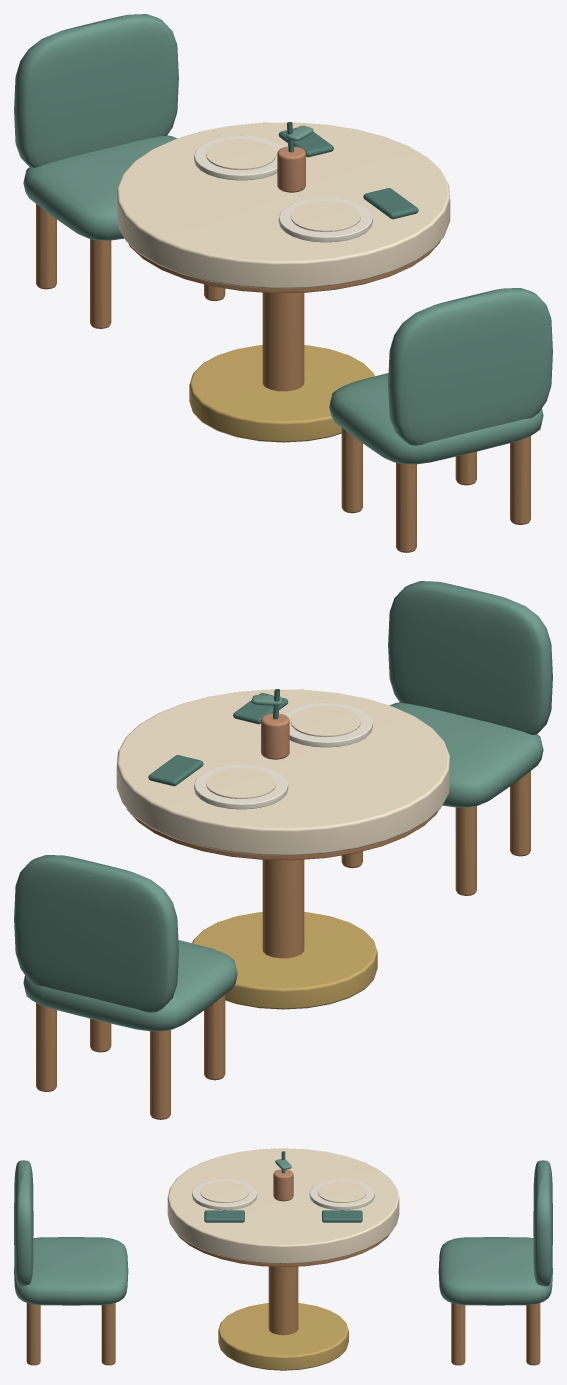
Rendered from dining-set.glb.
The picture shows the model from 3 angles, top to bottom: view 1: azimuth 30°, elevation 25°; view 2: azimuth 150°, elevation 25°; view 3: azimuth 270°, elevation 25°; orthographic projection. The views are drawn at different scales.
Parts seen in each view (by area): view 1: dining-set / Sea glass upholstery, dining-set / Ivory stone, dining-set / Oak, dining-set / Brass, dining-set / Warm linen, dining-set / Sea glass runner, dining-set / Terracotta cushion; view 2: dining-set / Sea glass upholstery, dining-set / Ivory stone, dining-set / Oak, dining-set / Brass, dining-set / Warm linen, dining-set / Sea glass runner, dining-set / Terracotta cushion; view 3: dining-set / Ivory stone, dining-set / Sea glass upholstery, dining-set / Brass, dining-set / Oak, dining-set / Warm linen, dining-set / Sea glass runner, dining-set / Terracotta cushion.
Part boxes in pixels (box(x1,y1,x2,y2)): dining-set / Sea glass upholstery: box(14, 14, 552, 464); dining-set / Ivory stone: box(116, 122, 450, 288); dining-set / Oak: box(36, 204, 530, 552); dining-set / Brass: box(189, 345, 374, 442); dining-set / Warm linen: box(194, 135, 372, 242); dining-set / Sea glass runner: box(278, 122, 418, 219); dining-set / Terracotta cushion: box(277, 146, 305, 192); dining-set / Sea glass upholstery: box(14, 581, 552, 1031); dining-set / Ivory stone: box(116, 689, 450, 855); dining-set / Oak: box(36, 771, 530, 1119); dining-set / Brass: box(192, 912, 377, 1009); dining-set / Warm linen: box(194, 702, 372, 809); dining-set / Sea glass runner: box(148, 689, 288, 786); dining-set / Terracotta cushion: box(261, 713, 289, 759); dining-set / Ivory stone: box(167, 1148, 399, 1263); dining-set / Sea glass upholstery: box(14, 1159, 552, 1305); dining-set / Brass: box(218, 1303, 348, 1370); dining-set / Oak: box(26, 1234, 540, 1365); dining-set / Warm linen: box(192, 1179, 374, 1210); dining-set / Sea glass runner: box(204, 1151, 362, 1222); dining-set / Terracotta cushion: box(273, 1169, 293, 1201).
Size of the model in its own units: 1.42 by 1.31 by 3.3.
